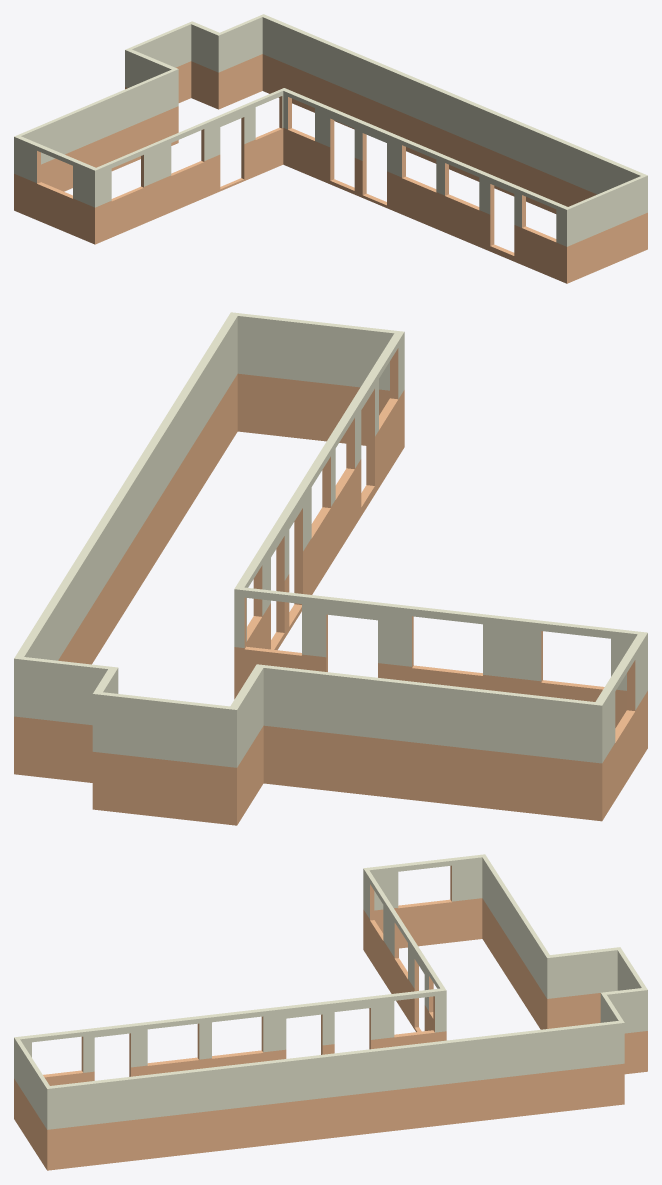
File: paredEn.glb
The picture shows the model from 3 angles, top to bottom: view 1: azimuth 30°, elevation 25°; view 2: azimuth 150°, elevation 25°; view 3: azimuth 270°, elevation 25°; orthographic projection. The views are drawn at different scales.
Parts seen in each view (by area): view 1: Room.089; view 2: Room.089; view 3: Room.089.
Boxes of the visible parts, bbox=[...] form: Room.089: bbox=[14, 14, 647, 283]; Room.089: bbox=[14, 312, 647, 825]; Room.089: bbox=[14, 854, 647, 1170].
Size of the model in its own units: 283 by 45.92 by 323.
